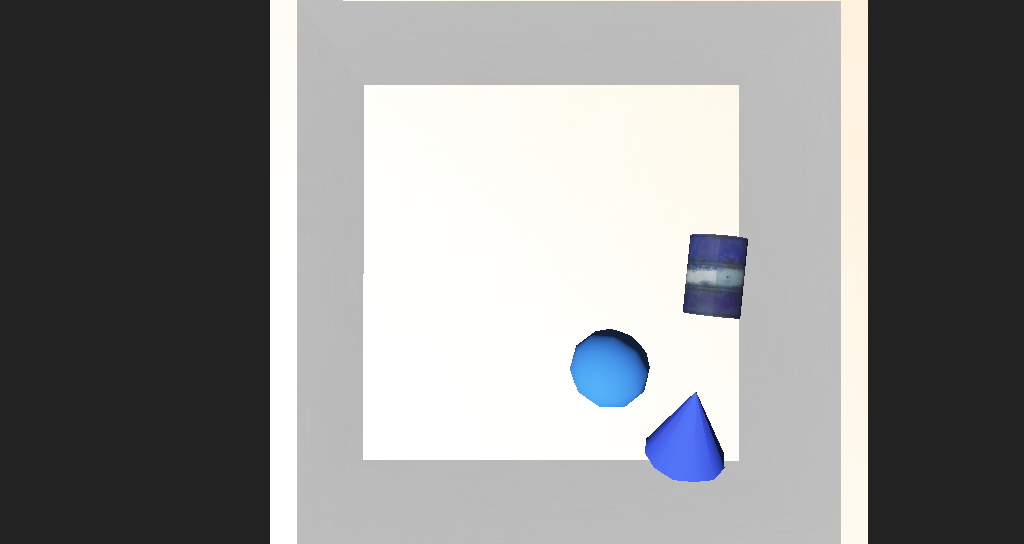cone: (610, 246, 670, 298)
cylinder: (583, 322, 657, 394)
sphere: (522, 303, 583, 346)
